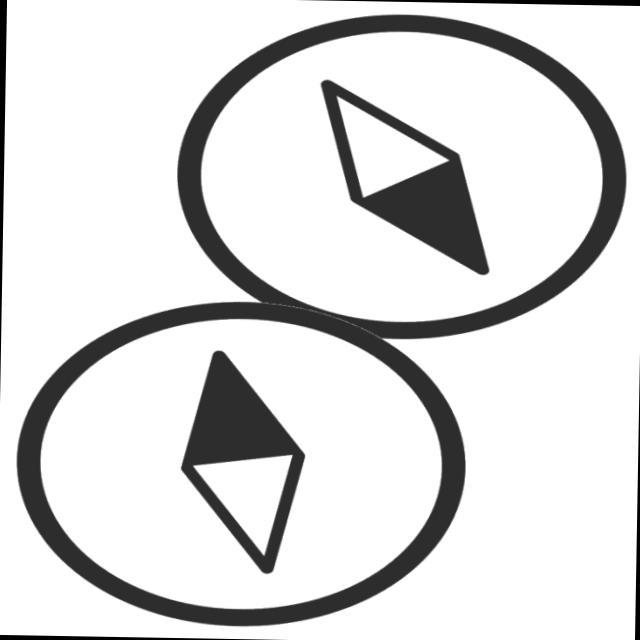compass: (4, 282, 477, 634), (162, 3, 635, 351)
